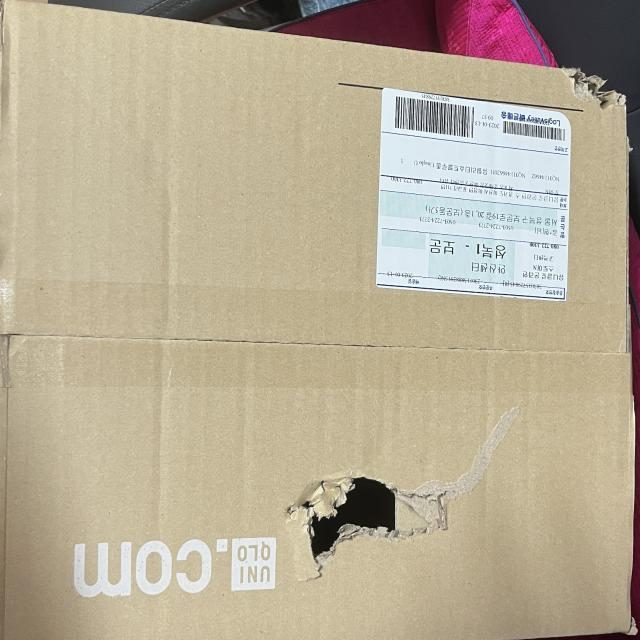hole: (282, 463, 425, 563), (550, 56, 638, 124)
